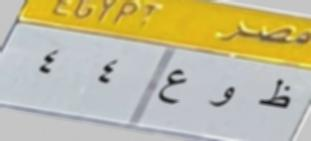4: (95, 57, 122, 90), (36, 47, 61, 79)
Thaa: (254, 73, 292, 115)
ain: (158, 67, 188, 110)
waw: (208, 82, 235, 113)
